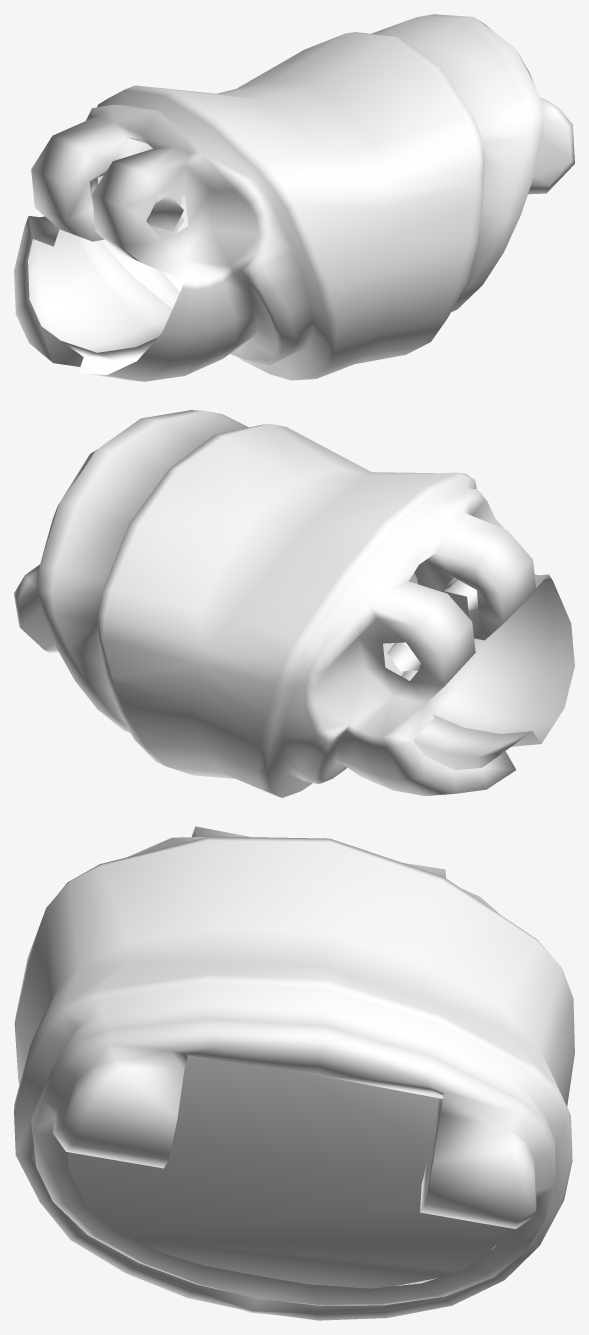
Rendered from LFinger21.dae.
3 views of the same model, one above another, from view 1: azimuth 30°, elevation 25°; view 2: azimuth 150°, elevation 25°; view 3: azimuth 270°, elevation 25° (orthographic). The views are drawn at different scales.
Visible parts, largest first — view 1: LFinger21; view 2: LFinger21; view 3: LFinger21.
Part boxes in pixels (<box>): LFinger21: <box>14,14,574,381</box>; LFinger21: <box>14,410,574,797</box>; LFinger21: <box>14,826,574,1320</box>.
Bounding box in the file's own units: 194 × 159 × 120.
1 material, 1 textured.
